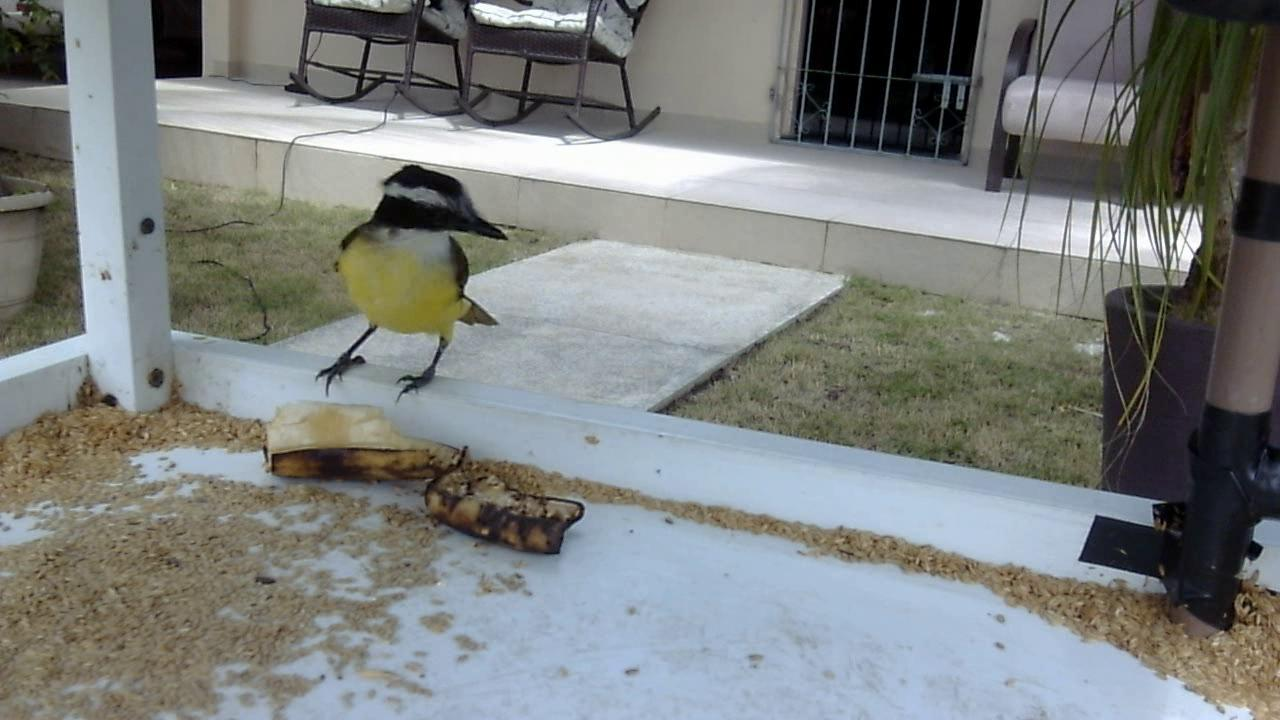bem_te_vi: (307, 160, 510, 411)
